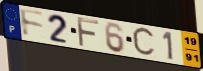1: (161, 31, 175, 62)
2: (46, 13, 72, 47)
6: (103, 21, 126, 54)
C: (131, 26, 157, 58)
F: (18, 7, 46, 39), (75, 16, 101, 49)
